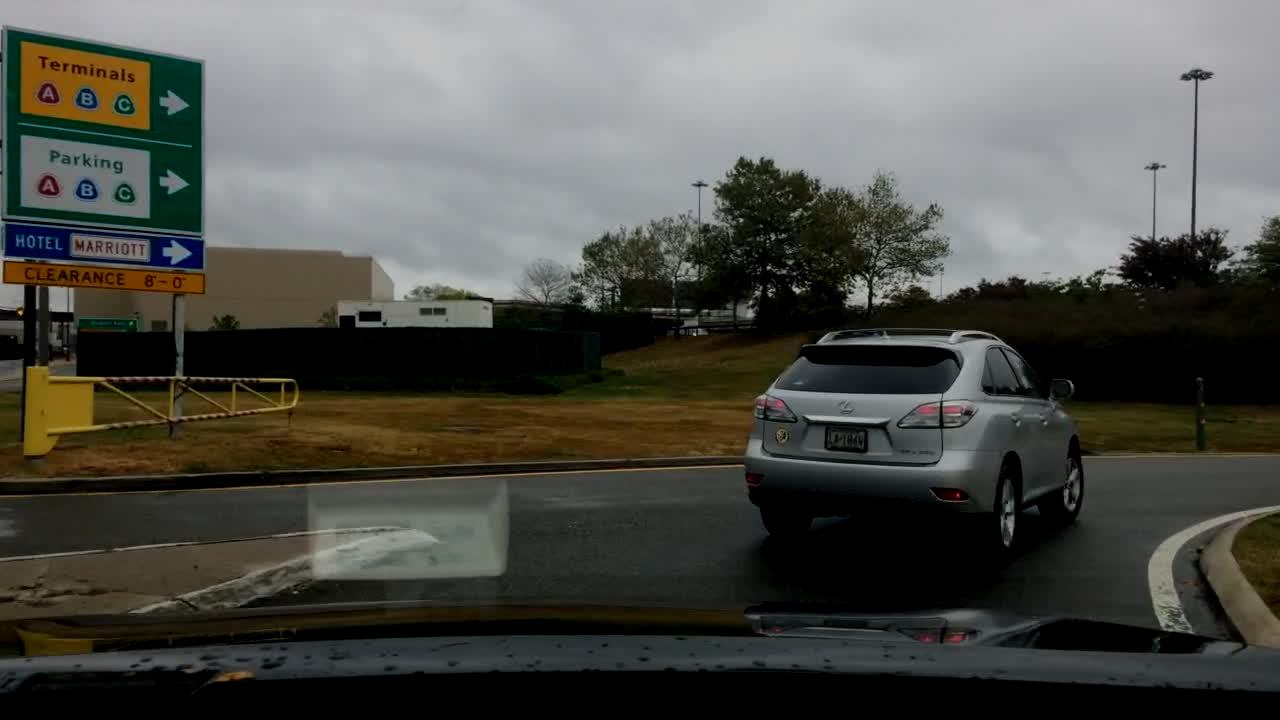lexus: (832, 397, 860, 417)
